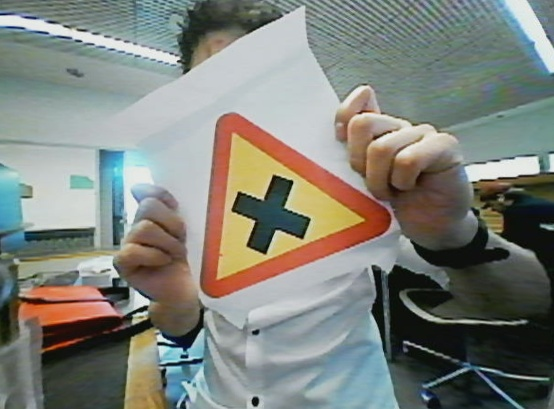junction: (193, 103, 395, 284)
